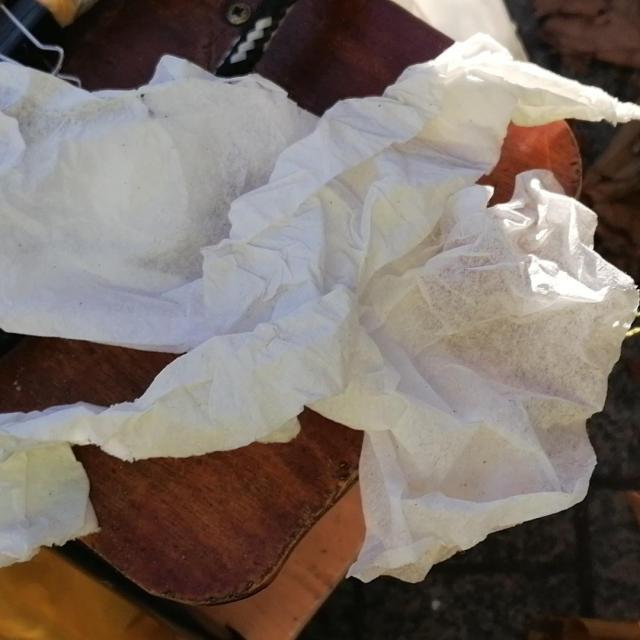Paper: (0, 29, 640, 588)
